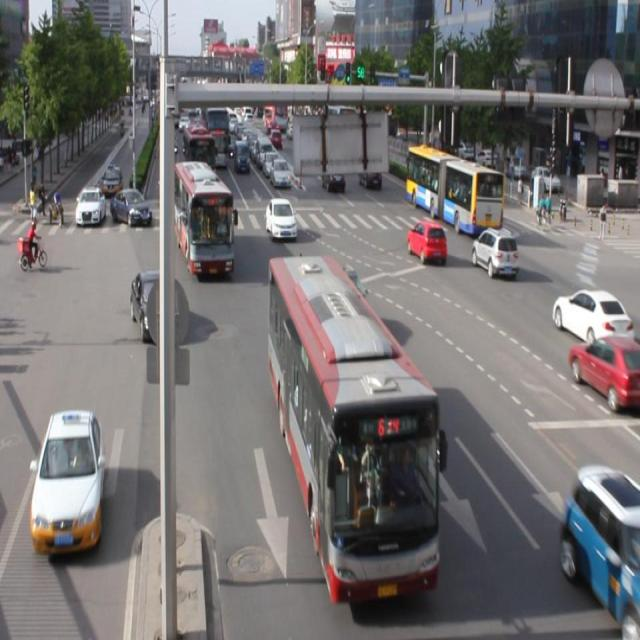car: (558, 463, 640, 630), (30, 408, 104, 553), (567, 335, 640, 409), (551, 286, 631, 347), (130, 268, 181, 339), (470, 225, 517, 276), (407, 219, 446, 262), (265, 197, 297, 239)
van: (267, 255, 439, 597), (406, 144, 504, 236), (174, 162, 235, 278)
